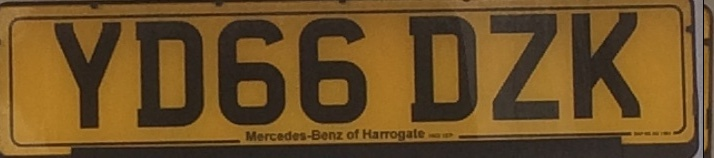character: (50, 16, 122, 130), (568, 11, 643, 120), (131, 19, 204, 129), (487, 10, 559, 120), (407, 11, 477, 123), (216, 19, 287, 125), (298, 15, 367, 123)
